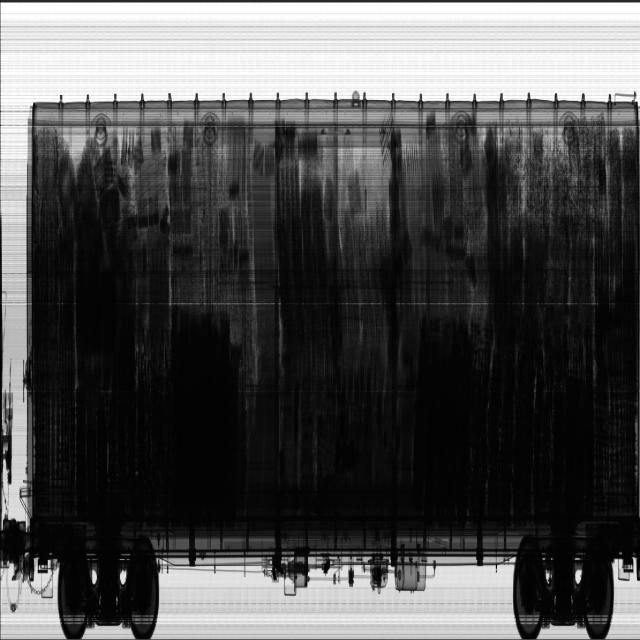auto parts: (21, 199, 83, 523), (338, 367, 393, 519)
